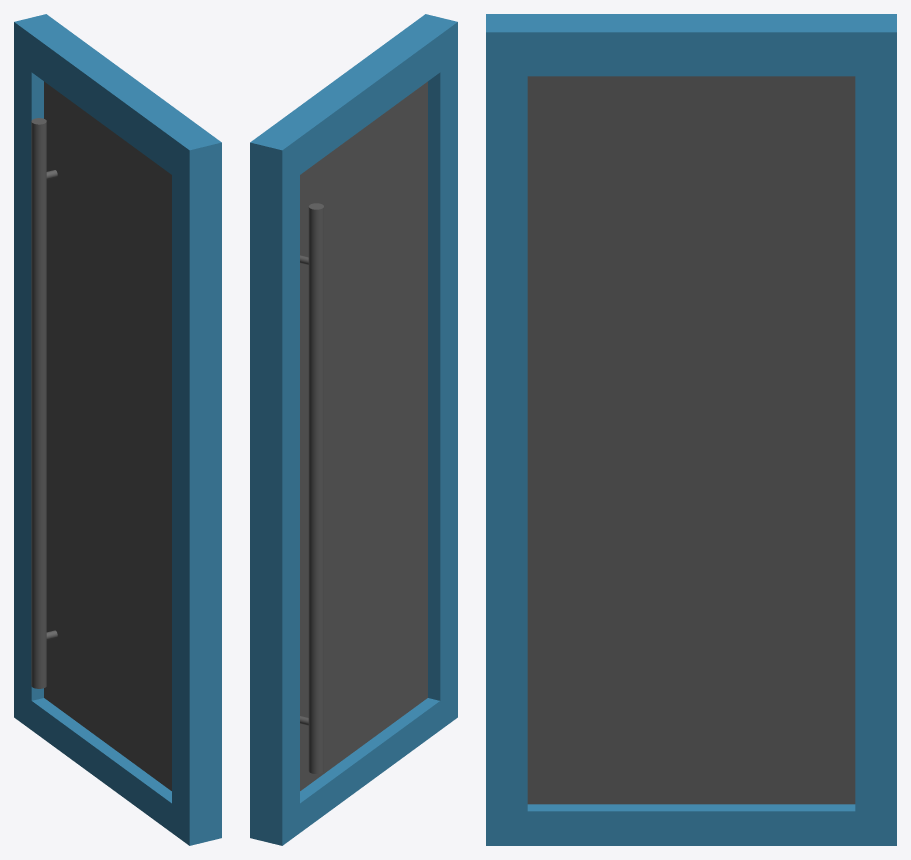
File: baeckerTuer_position.dae
3 views of the same model, side by side, from view 1: azimuth 30°, elevation 25°; view 2: azimuth 150°, elevation 25°; view 3: azimuth 270°, elevation 25° (orthographic). The views are drawn at different scales.
Visible parts, largest first — view 1: pCube1, door1, pCylinder1; view 2: door1, pCube1, pCylinder1; view 3: pCube1, door1.
Boxes of the visible parts, bbox=[...] form: pCube1: bbox=[44, 81, 171, 790]; door1: bbox=[14, 14, 221, 845]; pCylinder1: bbox=[31, 118, 46, 688]; door1: bbox=[250, 14, 457, 845]; pCube1: bbox=[300, 81, 427, 790]; pCylinder1: bbox=[308, 203, 323, 773]; pCube1: bbox=[527, 76, 855, 804]; door1: bbox=[486, 14, 896, 845].
Bounding box in the file's own units: 0.1302 × 1.99 × 0.9108.
